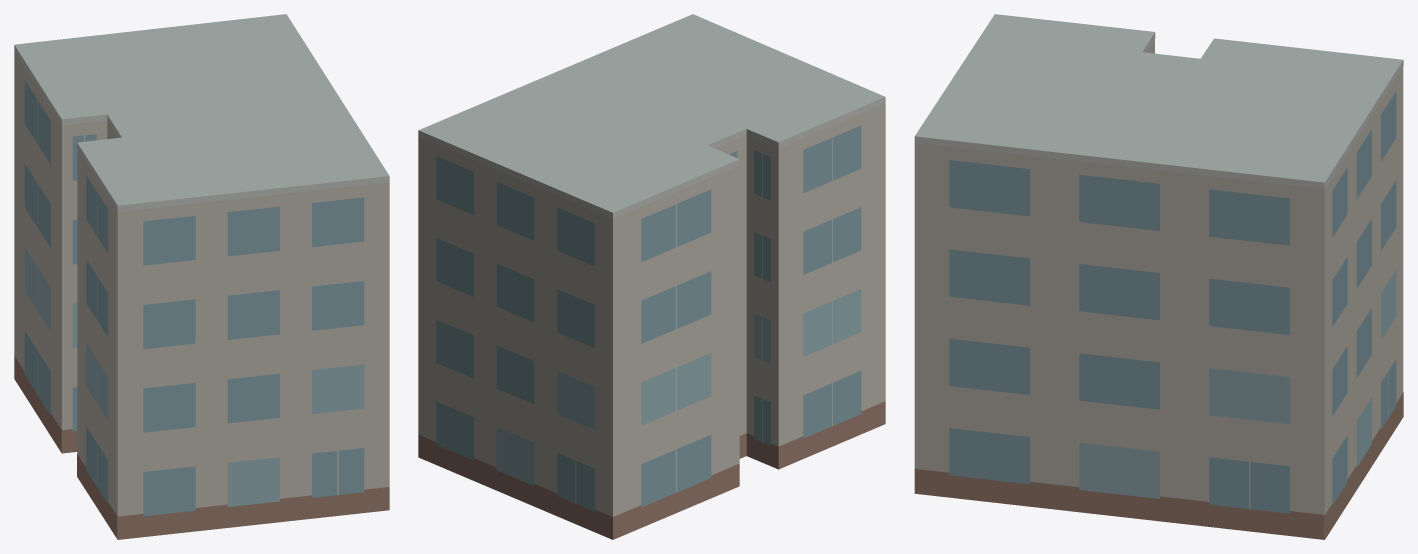
File: survey-upis-32719478.glb
3 renders of one model, left to right at view 1: azimuth 30°, elevation 25°; view 2: azimuth 150°, elevation 25°; view 3: azimuth 270°, elevation 25°, orthographic. The views are drawn at different scales.
Parts seen in each view (by area): view 1: survey-upis-32719478.tmp; view 2: survey-upis-32719478.tmp; view 3: survey-upis-32719478.tmp.
Part boxes in pixels (box(x1,y1,x2,y2)): survey-upis-32719478.tmp: box(14, 14, 389, 539); survey-upis-32719478.tmp: box(418, 14, 885, 539); survey-upis-32719478.tmp: box(914, 14, 1403, 539).
Bounding box in the file's own units: 13.41 × 13.24 × 16.42.
